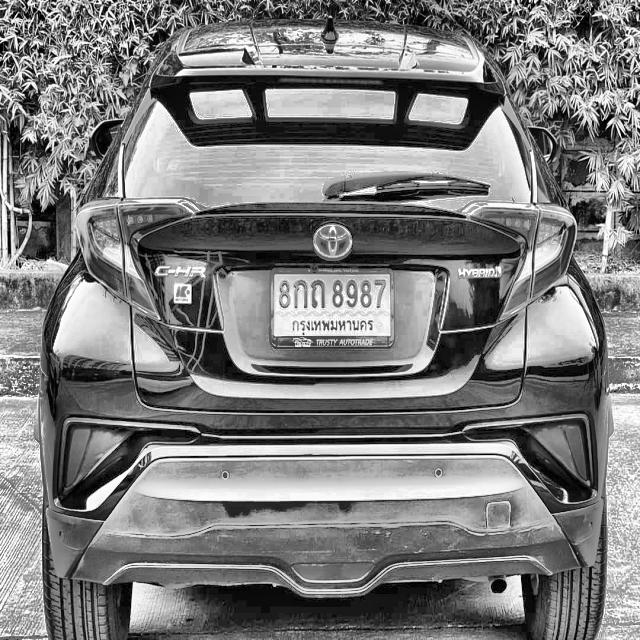license-plate: (271, 263, 397, 350)
